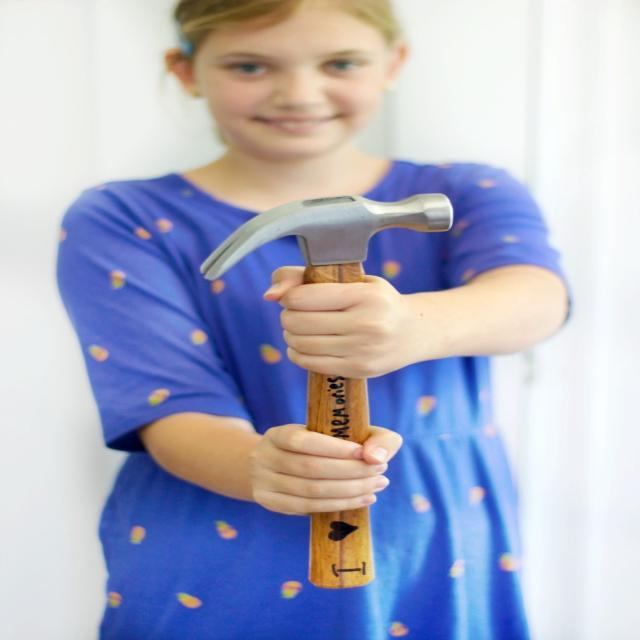hammer: (184, 182, 462, 592)
